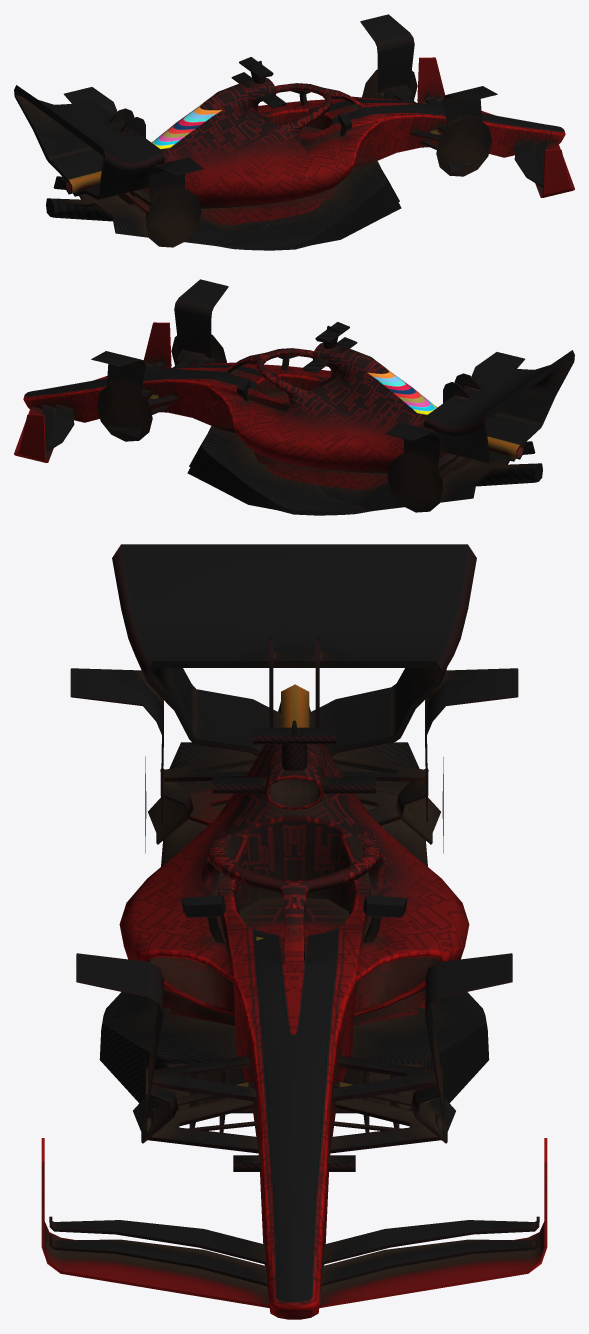
The model's file is f1_car_21.dae.
3 renders of one model, top to bottom at view 1: azimuth 30°, elevation 25°; view 2: azimuth 150°, elevation 25°; view 3: azimuth 270°, elevation 25°, orthographic. The views are drawn at different scales.
Parts seen in each view (by area): view 1: F1_Car; view 2: F1_Car; view 3: F1_Car.
Part boxes in pixels (box(x1,y1,x2,y2)): F1_Car: box(14, 14, 574, 250); F1_Car: box(14, 279, 574, 515); F1_Car: box(41, 544, 547, 1319).
Size of the model in its own units: 34.44 by 14.7 by 9.69.
1 material, 1 textured.
